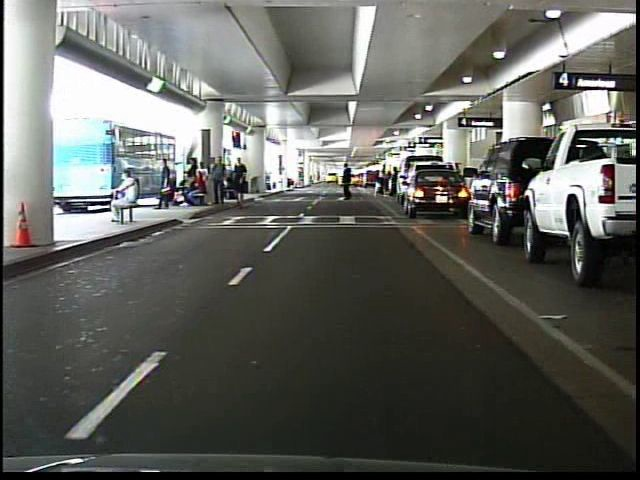person: (97, 166, 143, 228), (151, 155, 175, 213), (340, 162, 359, 206), (375, 160, 391, 197)
